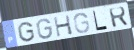G: (17, 21, 37, 43), (73, 12, 91, 34), (36, 18, 54, 40)
H: (53, 14, 74, 38)
L: (92, 10, 109, 32)
R: (108, 6, 129, 29)
